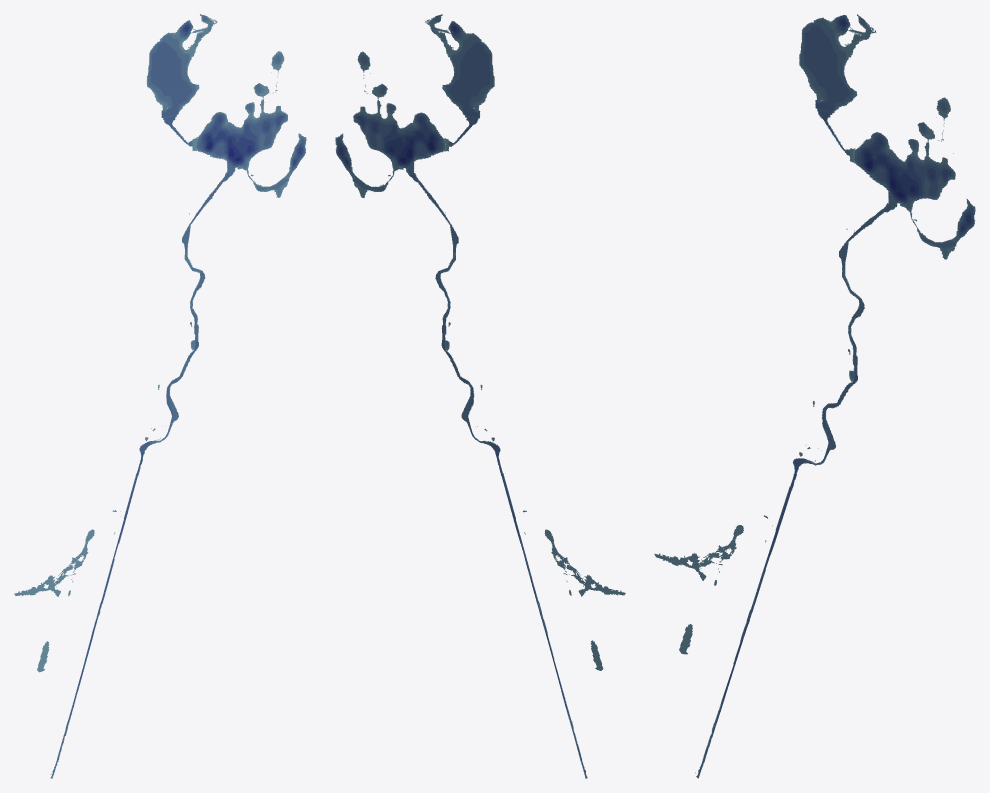
The model's file is triangle_mesh.glb.
3 views of the same model, side by side, from view 1: azimuth 30°, elevation 25°; view 2: azimuth 150°, elevation 25°; view 3: azimuth 330°, elevation 25° (orthographic). The views are drawn at different scales.
Visible parts, largest first — view 1: world; view 2: world; view 3: world.
Boxes of the visible parts, bbox=[...] form: world: bbox=[14, 14, 306, 778]; world: bbox=[335, 14, 625, 778]; world: bbox=[654, 14, 975, 778].
Size of the model in its own units: 1147 by 2739 by 14.13.
